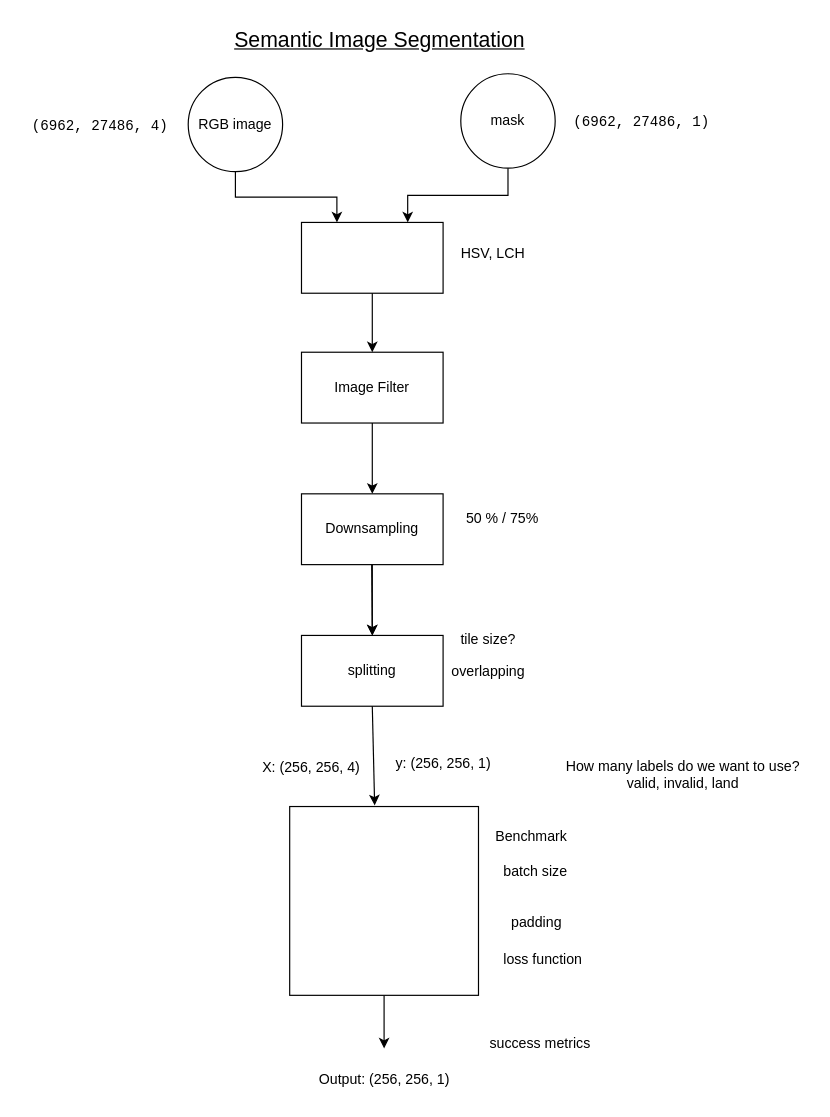
This 830x1117 diagram has some shape labels left out. Each missing label, with the centre of its shape:
Color Systems: (371,257)
Neural Network (U-Net): (383,900)
